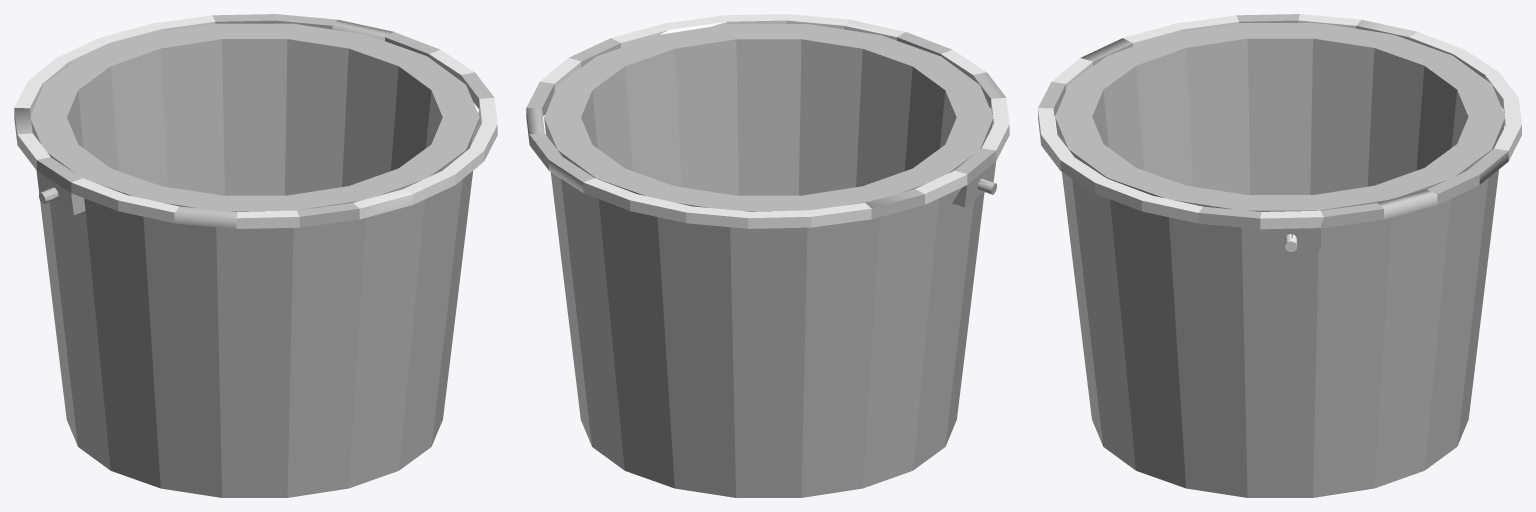
The model's file is original-2.obj.
3 views of the same model, side by side, from view 1: azimuth 30°, elevation 25°; view 2: azimuth 150°, elevation 25°; view 3: azimuth 270°, elevation 25° (orthographic).
Parts seen in each view (by area): view 1: Circle.011_Circle.167, Circle.010_Circle.166, Circle.012_Circle.168, Circle.013_Circle.169, Circle.009_Circle.165, Circle.002_Circle.158, Circle.008_Circle.164, Circle.001_Circle.157, Circle.003_Circle.159, Circle.014_Circle.170, Circle_Circle.156, Circle.004_Circle.160 (+27 smaller); view 2: Circle.017_Circle.173, Circle.016_Circle.172, Circle_Circle.156, Circle.001_Circle.157, Circle.015_Circle.171, Circle.008_Circle.164, Circle.002_Circle.158, Circle.007_Circle.163, Circle.009_Circle.165, Circle.014_Circle.170, Circle.010_Circle.166, Circle.006_Circle.162 (+27 smaller); view 3: Circle.006_Circle.162, Circle.005_Circle.161, Circle.004_Circle.160, Circle.007_Circle.163, Circle.003_Circle.159, Circle.014_Circle.170, Circle.008_Circle.164, Circle.002_Circle.158, Circle.015_Circle.171, Circle.013_Circle.169, Circle.012_Circle.168, Circle.016_Circle.172 (+29 smaller).
Boxes of the visible parts, bbox=[...] form: Circle.011_Circle.167: bbox=[216, 195, 293, 497]; Circle.010_Circle.166: bbox=[287, 186, 366, 497]; Circle.012_Circle.168: bbox=[143, 186, 221, 497]; Circle.013_Circle.169: bbox=[83, 168, 160, 488]; Circle.009_Circle.165: bbox=[349, 168, 425, 488]; Circle.002_Circle.158: bbox=[216, 23, 293, 195]; Circle.008_Circle.164: bbox=[399, 144, 465, 470]; Circle.001_Circle.157: bbox=[143, 23, 224, 195]; Circle.003_Circle.159: bbox=[284, 23, 366, 195]; Circle.014_Circle.170: bbox=[45, 144, 110, 470]; Circle_Circle.156: bbox=[83, 35, 167, 186]; Circle.004_Circle.160: bbox=[342, 35, 426, 186]; Circle.017_Circle.173: bbox=[730, 195, 807, 497]; Circle.016_Circle.172: bbox=[801, 186, 879, 497]; Circle_Circle.156: bbox=[657, 186, 736, 497]; Circle.001_Circle.157: bbox=[597, 168, 674, 488]; Circle.015_Circle.171: bbox=[863, 168, 938, 488]; Circle.008_Circle.164: bbox=[730, 24, 807, 195]; Circle.002_Circle.158: bbox=[558, 144, 624, 470]; Circle.007_Circle.163: bbox=[657, 24, 738, 195]; Circle.009_Circle.165: bbox=[798, 24, 880, 195]; Circle.014_Circle.170: bbox=[913, 144, 978, 470]; Circle.010_Circle.166: bbox=[856, 35, 940, 187]; Circle.006_Circle.162: bbox=[597, 35, 681, 187]; Circle.006_Circle.162: bbox=[1168, 185, 1247, 497]; Circle.005_Circle.161: bbox=[1241, 195, 1319, 497]; Circle.004_Circle.160: bbox=[1313, 185, 1391, 497]; Circle.007_Circle.163: bbox=[1108, 168, 1185, 488]; Circle.003_Circle.159: bbox=[1374, 168, 1451, 488]; Circle.014_Circle.170: bbox=[1241, 23, 1318, 194]; Circle.008_Circle.164: bbox=[1069, 144, 1135, 470]; Circle.002_Circle.158: bbox=[1424, 144, 1491, 470]; Circle.015_Circle.171: bbox=[1310, 23, 1391, 194]; Circle.013_Circle.169: bbox=[1168, 23, 1250, 194]; Circle.012_Circle.168: bbox=[1108, 34, 1192, 186]; Circle.016_Circle.172: bbox=[1367, 34, 1452, 186].
Size of the model in its own units: 1.79 by 1.17 by 1.69.
